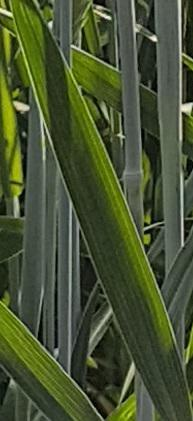Wheat: (16, 31, 190, 421)
